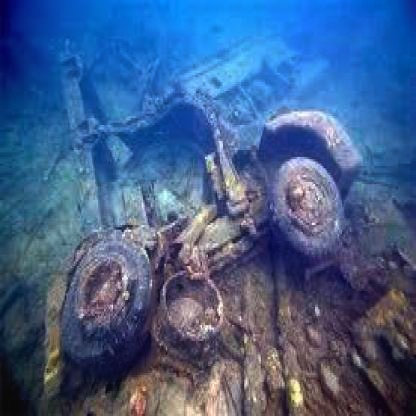metal: (253, 89, 380, 218), (186, 66, 262, 234)
tire: (63, 238, 163, 370), (270, 152, 345, 275)
